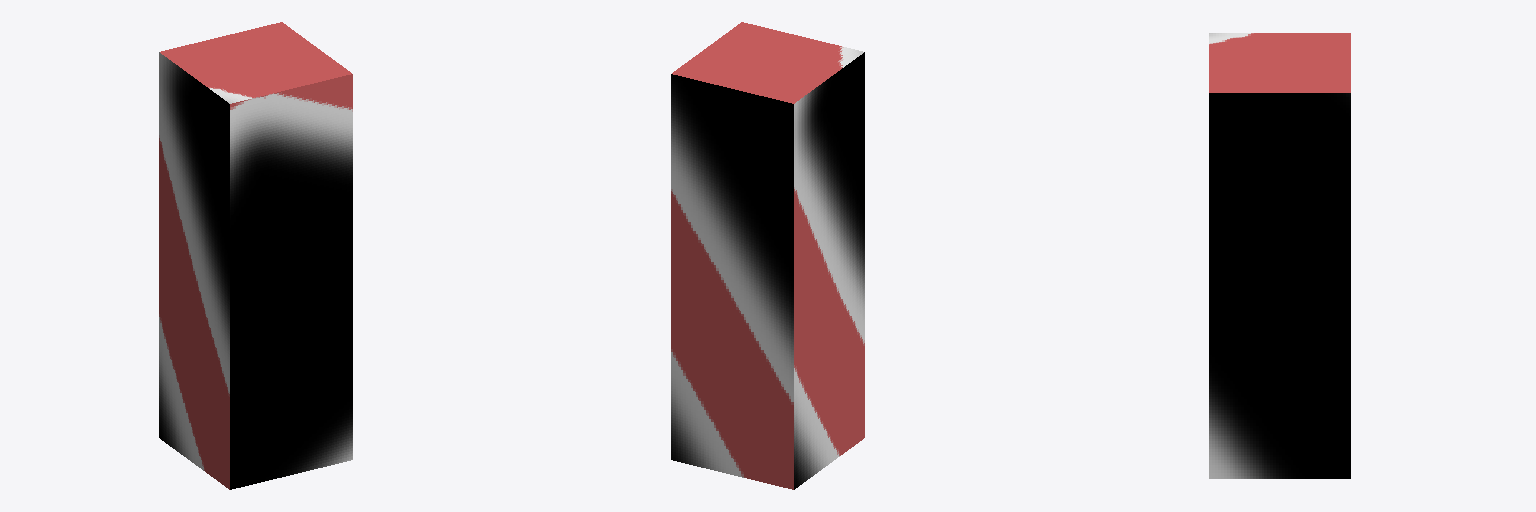
3 views of the same model, side by side, from view 1: azimuth 30°, elevation 25°; view 2: azimuth 150°, elevation 25°; view 3: azimuth 270°, elevation 25° (orthographic).
Parts seen in each view (by area): view 1: 左前腕; view 2: 左前腕; view 3: 左前腕.
Boxes of the visible parts, x1,y1,x2,y2 form: 左前腕: [159, 22, 352, 489]; 左前腕: [671, 22, 864, 489]; 左前腕: [1209, 33, 1350, 478].
Bounding box in the file's own units: 3 × 9 × 3.
1 materials, 1 textured.